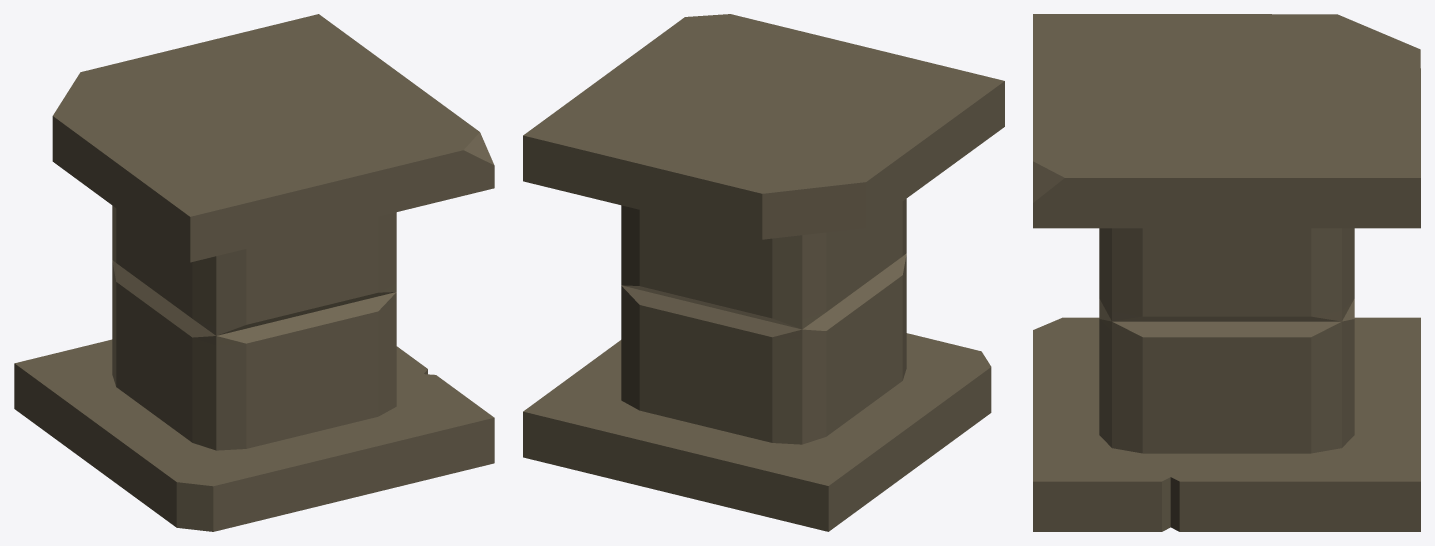
The model's file is Pilar.fbx.
3 views of the same model, side by side, from view 1: azimuth 30°, elevation 25°; view 2: azimuth 150°, elevation 25°; view 3: azimuth 270°, elevation 25° (orthographic). The views are drawn at different scales.
Visible parts, largest first — view 1: Cube; view 2: Cube; view 3: Cube.
Part boxes in pixels (x1,y1,x2,y2): Cube: [14, 14, 494, 531]; Cube: [523, 14, 1004, 531]; Cube: [1033, 14, 1420, 531].
Bounding box in the file's own units: 200 × 201 × 200.
